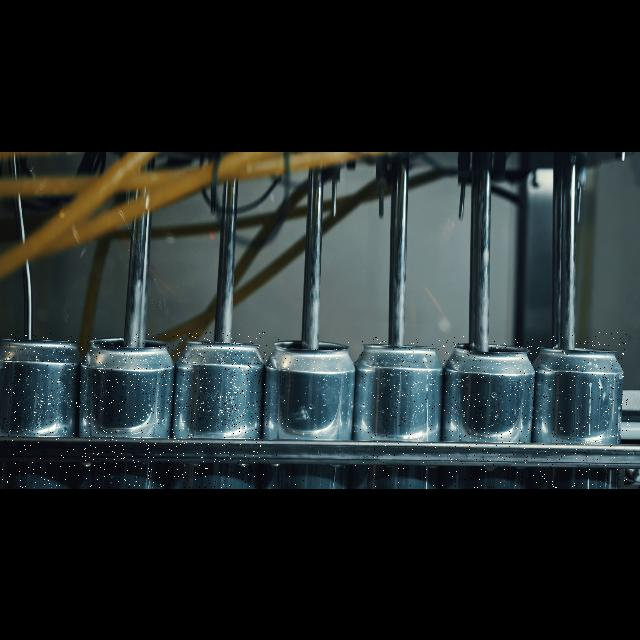empty: (534, 332, 630, 488), (442, 336, 538, 488), (82, 334, 176, 488), (176, 332, 268, 488), (267, 332, 359, 488), (2, 332, 82, 488), (360, 336, 440, 488)
